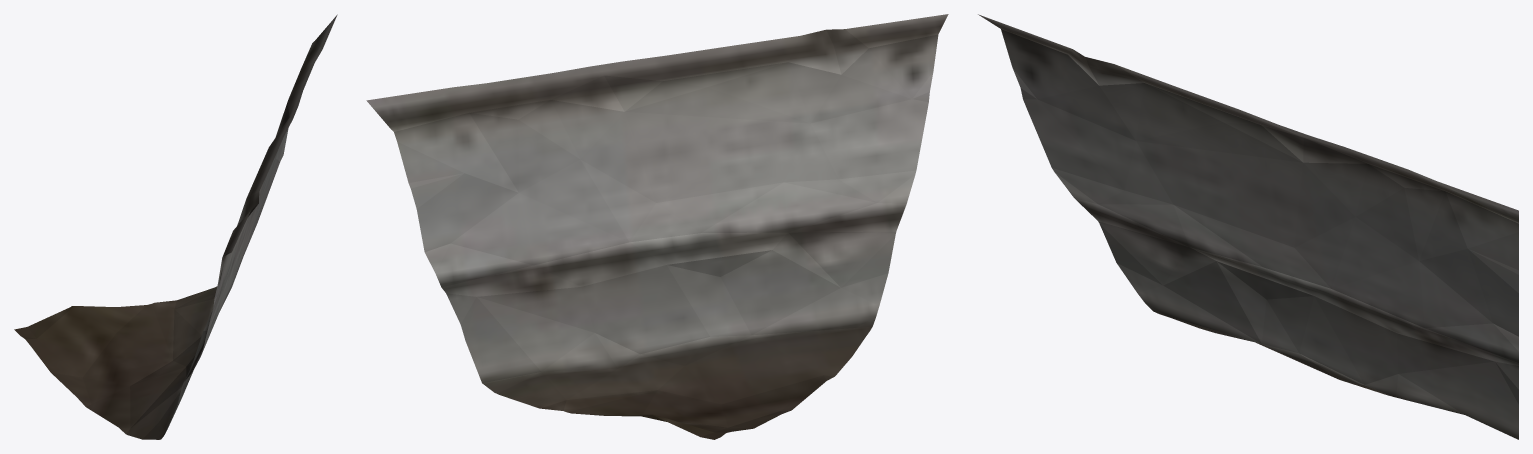
3 renders of one model, left to right at view 1: azimuth 30°, elevation 25°; view 2: azimuth 150°, elevation 25°; view 3: azimuth 270°, elevation 25°, orthographic. The views are drawn at different scales.
Bounding box in the file's own units: 0.2313 × 0.1791 × 0.2695.
Materials: 1 (1 with a texture image).
